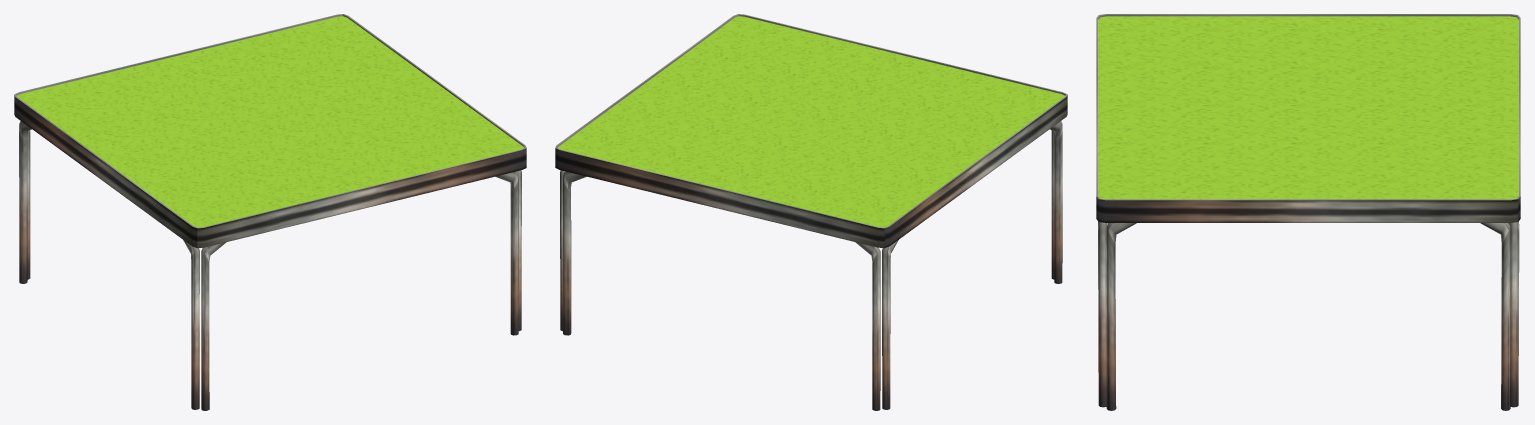
The model's file is Dining_Table_03_A.FBX.
3 views of the same model, side by side, from view 1: azimuth 30°, elevation 25°; view 2: azimuth 150°, elevation 25°; view 3: azimuth 270°, elevation 25° (orthographic). The views are drawn at different scales.
Parts seen in each view (by area): view 1: Dining_Table; view 2: Dining_Table; view 3: Dining_Table.
Part boxes in pixels (x1,y1,x2,y2): Dining_Table: (14,14,526,410); Dining_Table: (555,14,1067,410); Dining_Table: (1096,14,1520,410).
Size of the model in its own units: 264 by 140 by 254.
